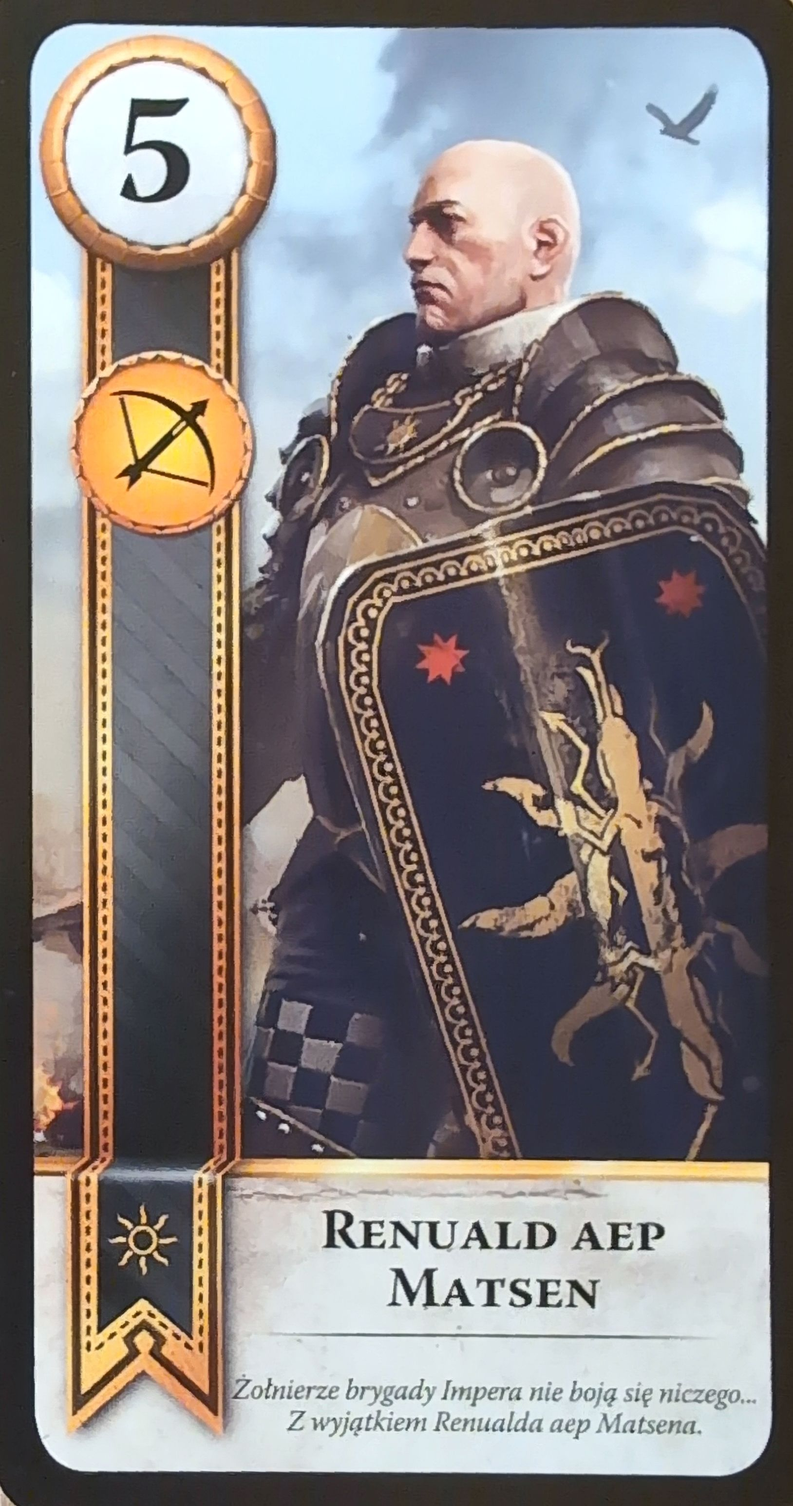5: (37, 31, 279, 270)
lucznik: (62, 348, 256, 535)
